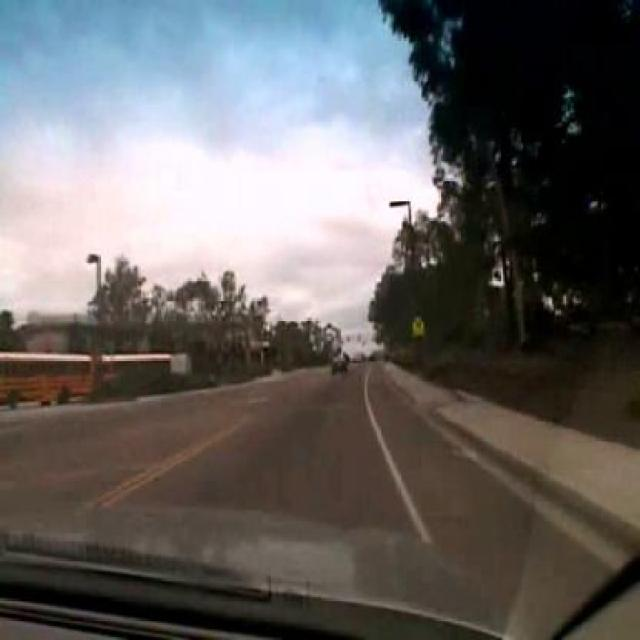school: (412, 315, 425, 332)
